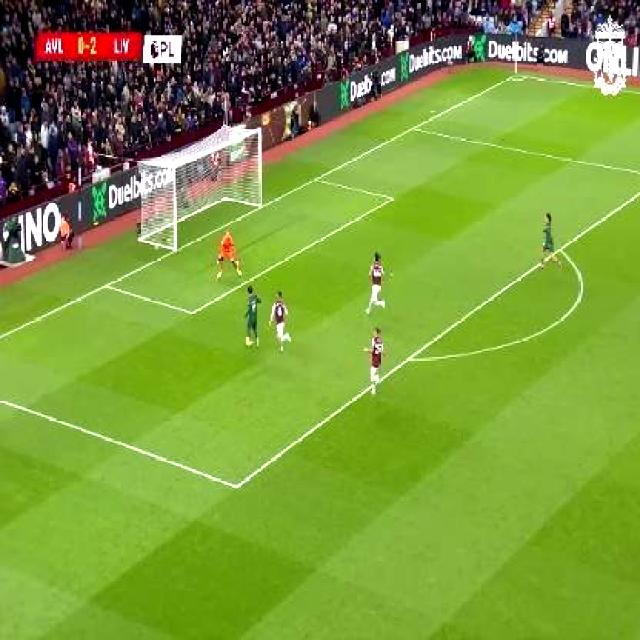bigarea_bottom_inner: (225, 471, 246, 500)
bigarea_top_outter: (406, 117, 422, 137)
bottom_arc_area_intersection: (398, 345, 418, 369)
corner: (506, 66, 526, 82)
smallarea_bottom_inner: (182, 297, 202, 326)
smallarea_bottom_outter: (96, 271, 116, 297)
smallarea_top_inner: (382, 186, 400, 209)
smallarea_top_outter: (306, 166, 325, 189)
top_arc_area_intersection: (549, 237, 566, 261)
